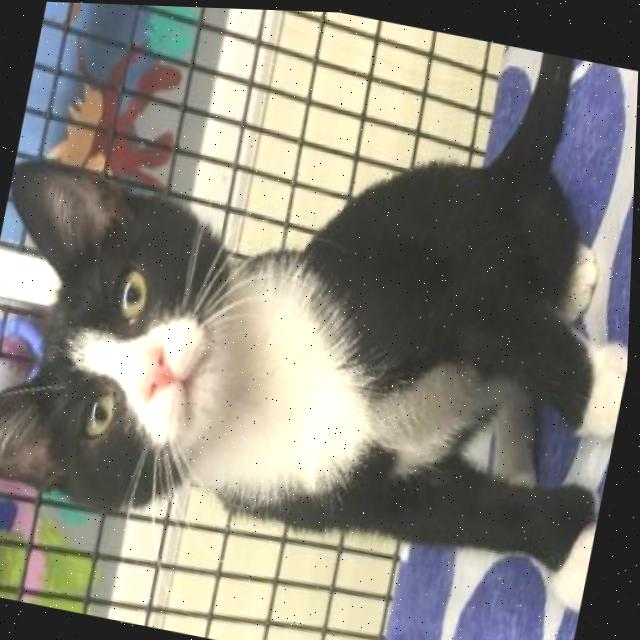Tuxedo: (0, 0, 640, 616)
